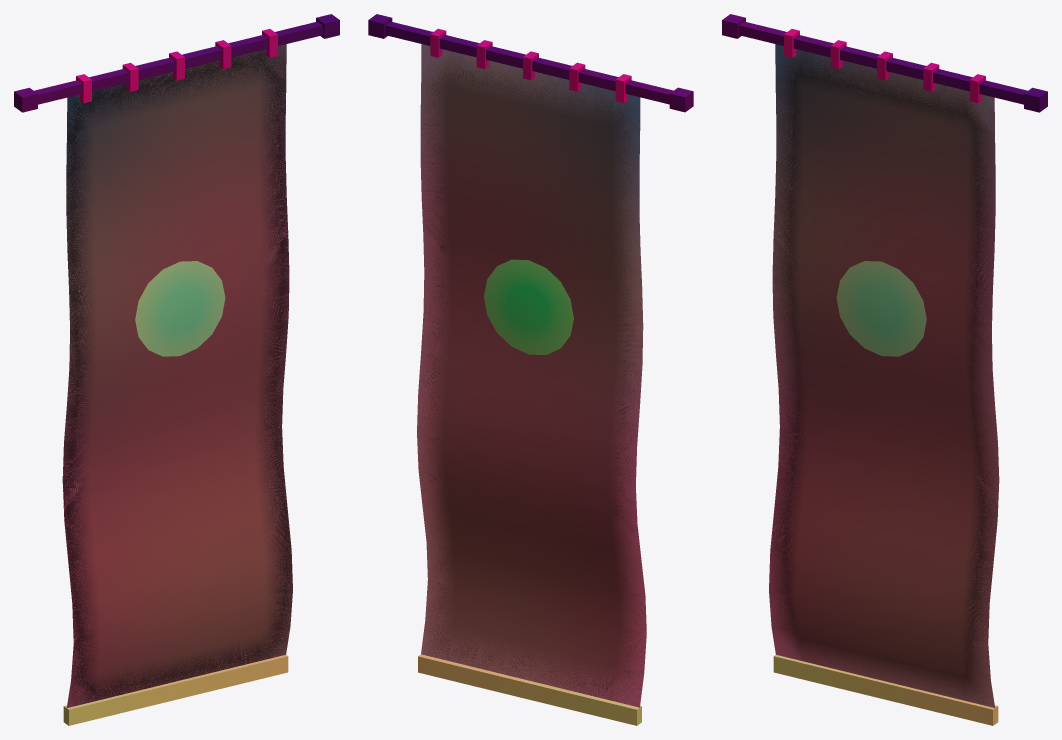
File: banner.glb
3 renders of one model, left to right at view 1: azimuth 30°, elevation 25°; view 2: azimuth 150°, elevation 25°; view 3: azimuth 330°, elevation 25°, orthographic.
Visible parts, largest first — view 1: banner_cloth, sigil, banner_trim, rod; view 2: banner_cloth, sigil.001, banner_trim, rod; view 3: banner_cloth, sigil, banner_trim, rod.
Part boxes in pixels (x1=…): banner_cloth: x1=62, y1=44, x2=292, y2=707; sigil: x1=135, y1=261, x2=225, y2=356; banner_trim: x1=63, y1=29, x2=288, y2=725; rod: x1=14, y1=14, x2=339, y2=112; banner_cloth: x1=417, y1=44, x2=646, y2=707; sigil.001: x1=484, y1=259, x2=573, y2=354; banner_trim: x1=418, y1=28, x2=641, y2=725; rod: x1=368, y1=14, x2=693, y2=112; banner_cloth: x1=769, y1=44, x2=999, y2=707; sigil: x1=836, y1=261, x2=926, y2=356; banner_trim: x1=773, y1=29, x2=998, y2=725; rod: x1=722, y1=14, x2=1047, y2=112.
Size of the model in its own units: 1.23 by 2.38 by 0.0738.
